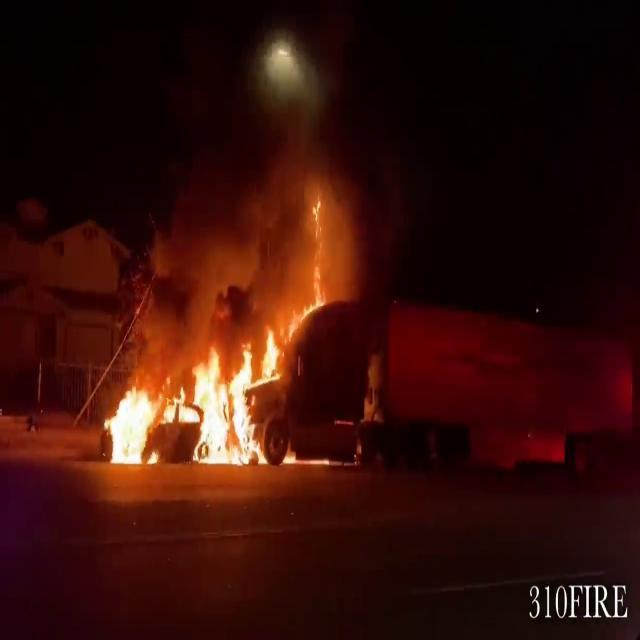Fire: (98, 327, 298, 472)
Smoke: (144, 51, 382, 321)
